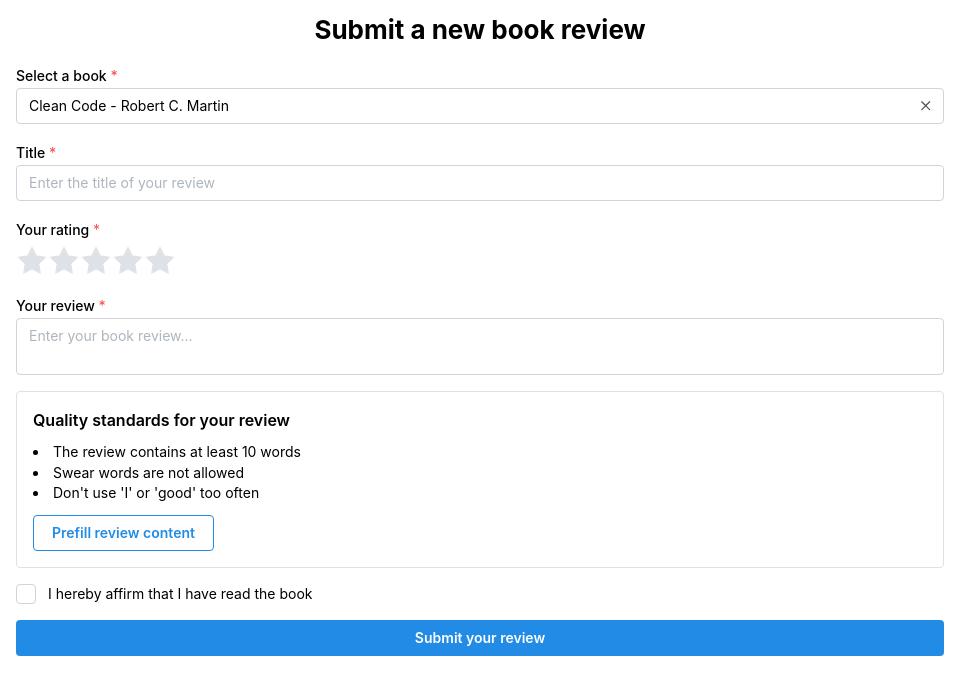
Test case: SubmitReviewContainer — form rendering › prefill button populates the review content field
This screenshot has width=961, height=673.
Click the button "Prefill review content": (123, 533) [33,515,214,551]
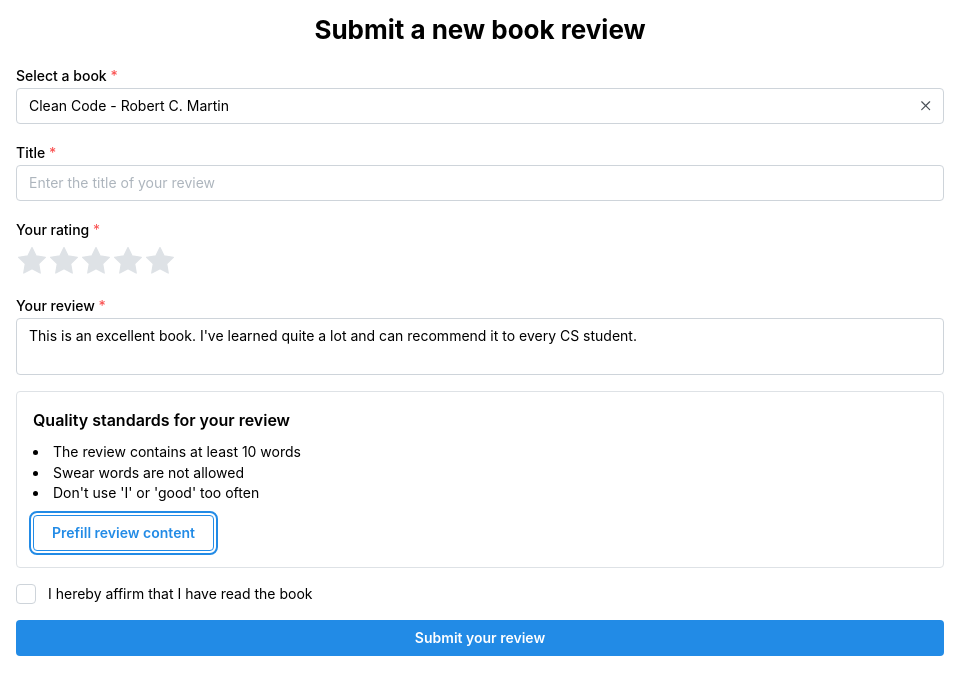
Now the text box labelled "Your review *" holds "This is an excellent book. I've learned quite a lot and can recommend it to every CS student.", box [16,318,944,375]
